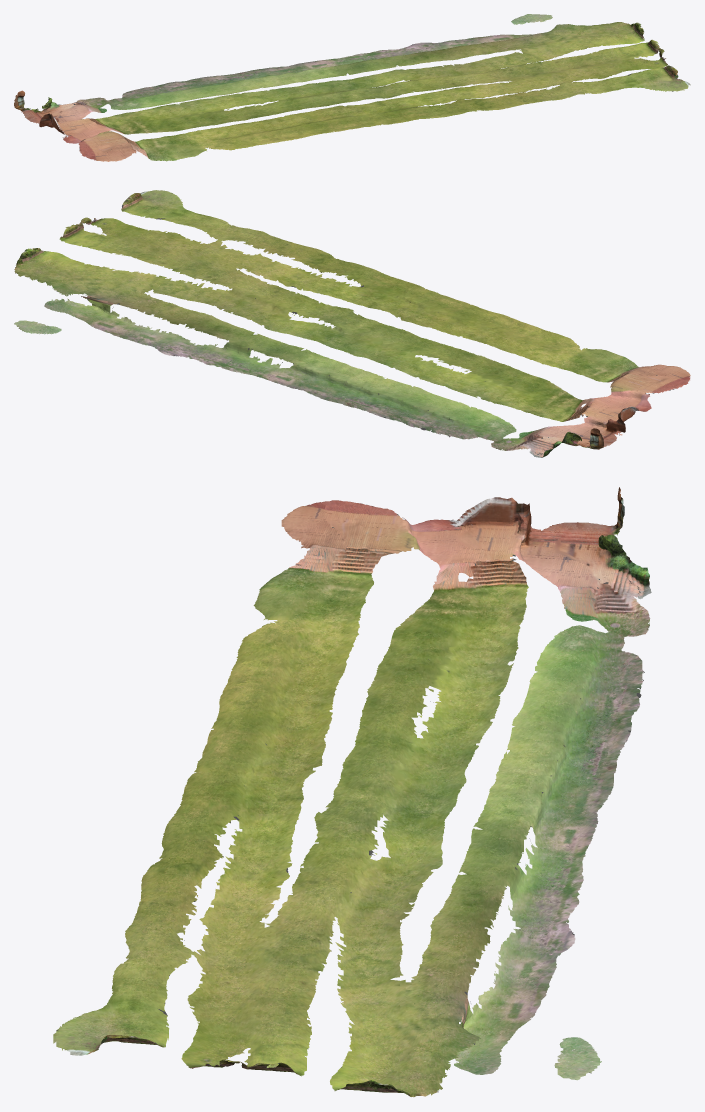
Rendered from 반중앙 mesh fix.fbx.
The picture shows the model from 3 angles, top to bottom: view 1: azimuth 30°, elevation 25°; view 2: azimuth 150°, elevation 25°; view 3: azimuth 270°, elevation 25°; orthographic projection. The views are drawn at different scales.
Visible parts, largest first — view 1: mesh; view 2: mesh; view 3: mesh.
Part boxes in pixels (<box>): mesh: <box>14,14,690,161</box>; mesh: <box>14,190,690,457</box>; mesh: <box>53,487,651,1097</box>.
Bounding box in the file's own units: 101 × 7.36 × 46.17.
Materials: 1 (1 with a texture image).
